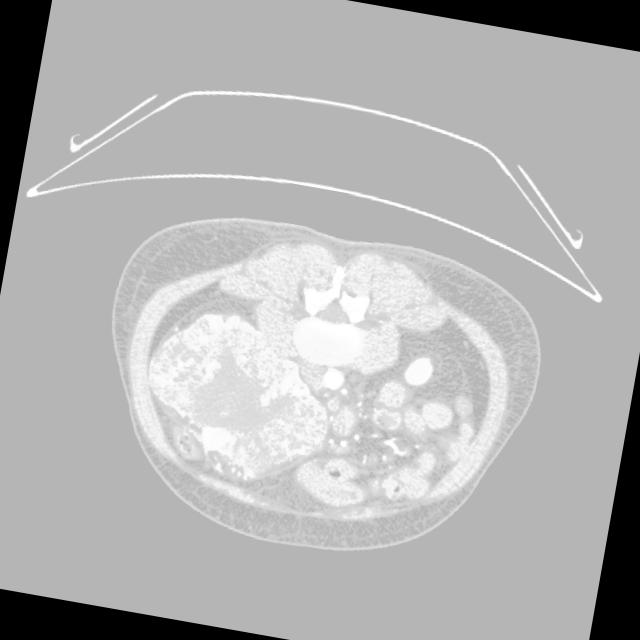TUMOR: (171, 254, 554, 494)
